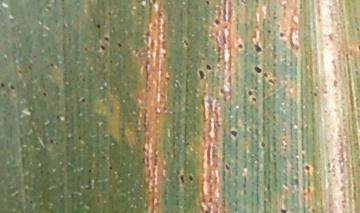tarspot: (330, 59, 338, 80), (252, 42, 263, 54), (325, 31, 335, 43), (253, 64, 262, 75), (180, 38, 191, 47), (178, 174, 187, 184), (196, 69, 204, 80), (39, 89, 48, 98), (78, 96, 88, 104), (267, 78, 277, 86), (303, 162, 311, 172), (262, 69, 269, 80), (332, 80, 339, 91), (218, 87, 226, 96), (229, 129, 238, 137), (308, 206, 318, 213), (224, 161, 231, 171), (48, 60, 55, 70), (213, 18, 221, 26), (277, 31, 285, 39), (236, 42, 244, 50), (204, 63, 212, 71), (99, 43, 106, 52), (115, 40, 122, 49), (102, 36, 111, 43), (246, 89, 255, 96), (250, 95, 257, 104), (187, 173, 194, 182), (320, 88, 329, 95), (9, 83, 16, 91), (94, 22, 102, 29), (260, 140, 267, 148), (76, 134, 83, 142), (54, 113, 61, 121), (80, 75, 87, 83), (48, 137, 54, 146), (312, 91, 318, 99), (278, 207, 286, 213), (87, 167, 93, 175), (149, 1, 158, 6), (355, 25, 360, 34), (107, 164, 113, 171), (16, 68, 22, 75), (106, 10, 112, 17), (242, 109, 249, 115), (107, 58, 113, 64), (29, 198, 33, 207), (266, 28, 272, 34), (1, 81, 6, 88), (83, 46, 88, 53), (356, 43, 360, 51), (272, 14, 277, 20), (205, 1, 210, 6), (60, 1, 66, 4)
